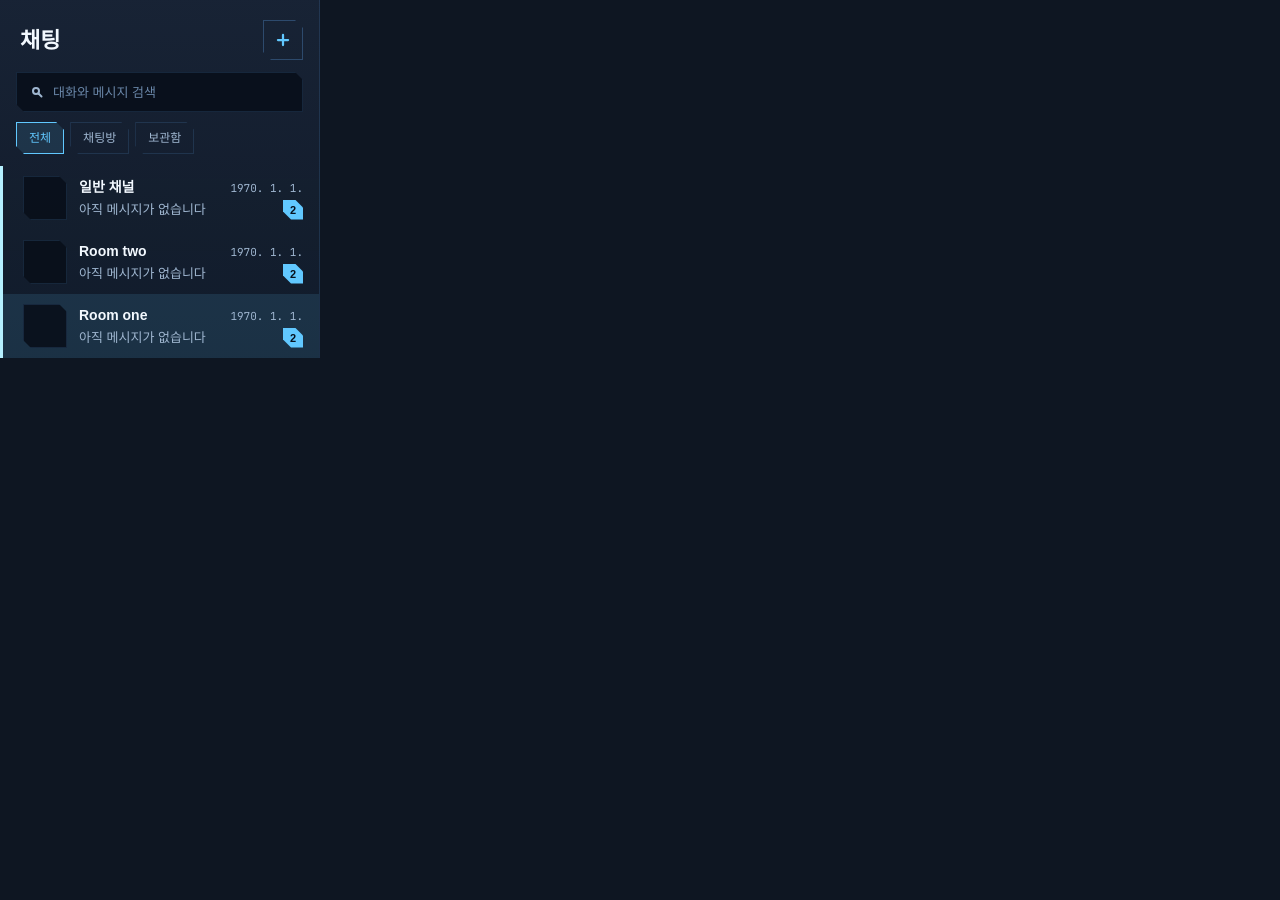
ChatListColumn context menu › deletes the general channel after its confirm and clears it when it was open (spec 2026-10-08 F1)
Right-click the button with test id "chat-list-row" that starts with "일반 채널": point(45, 198) [0, 166, 319, 230]
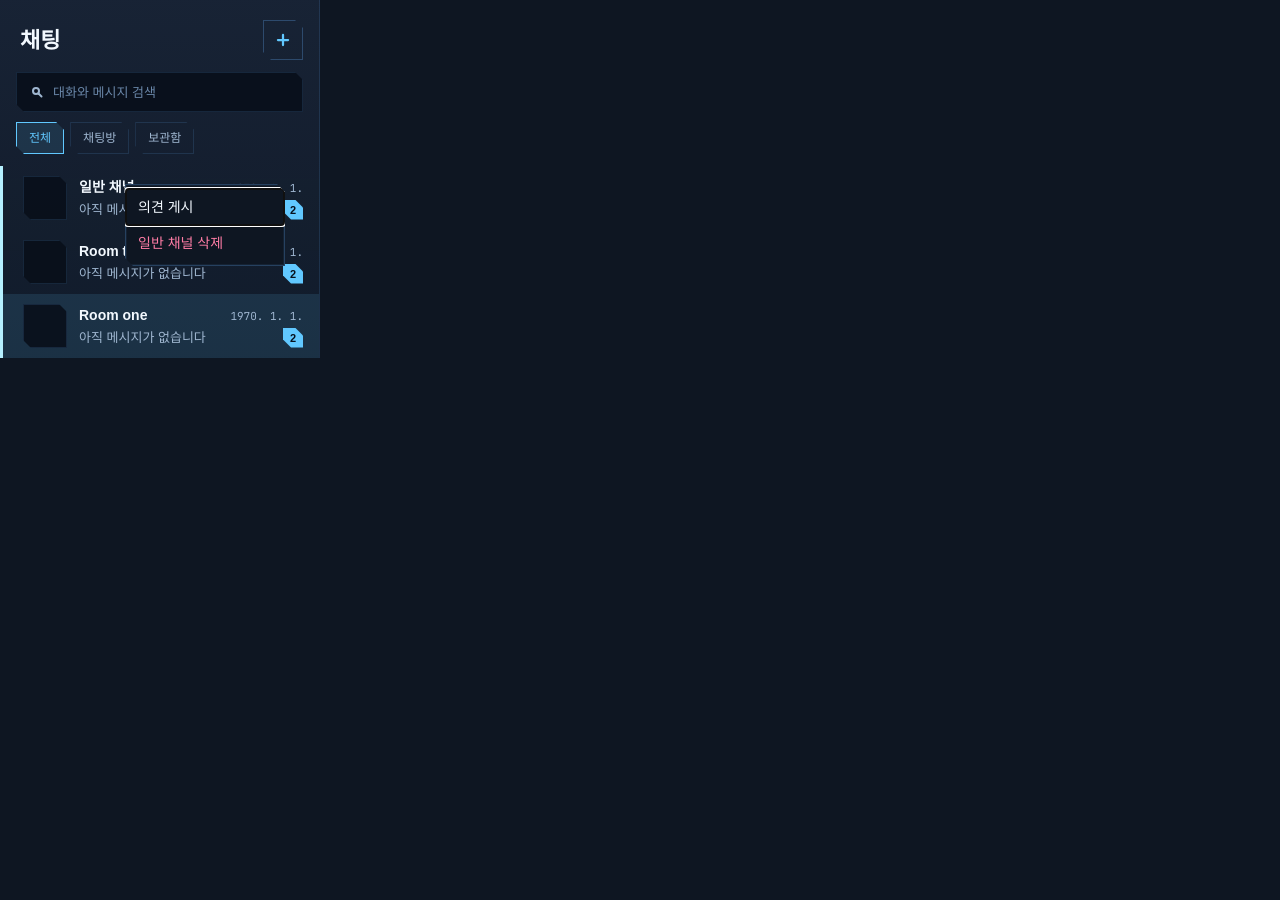
Click the menu item with test id "chat-delete-general": point(205, 243) [126, 225, 284, 261]
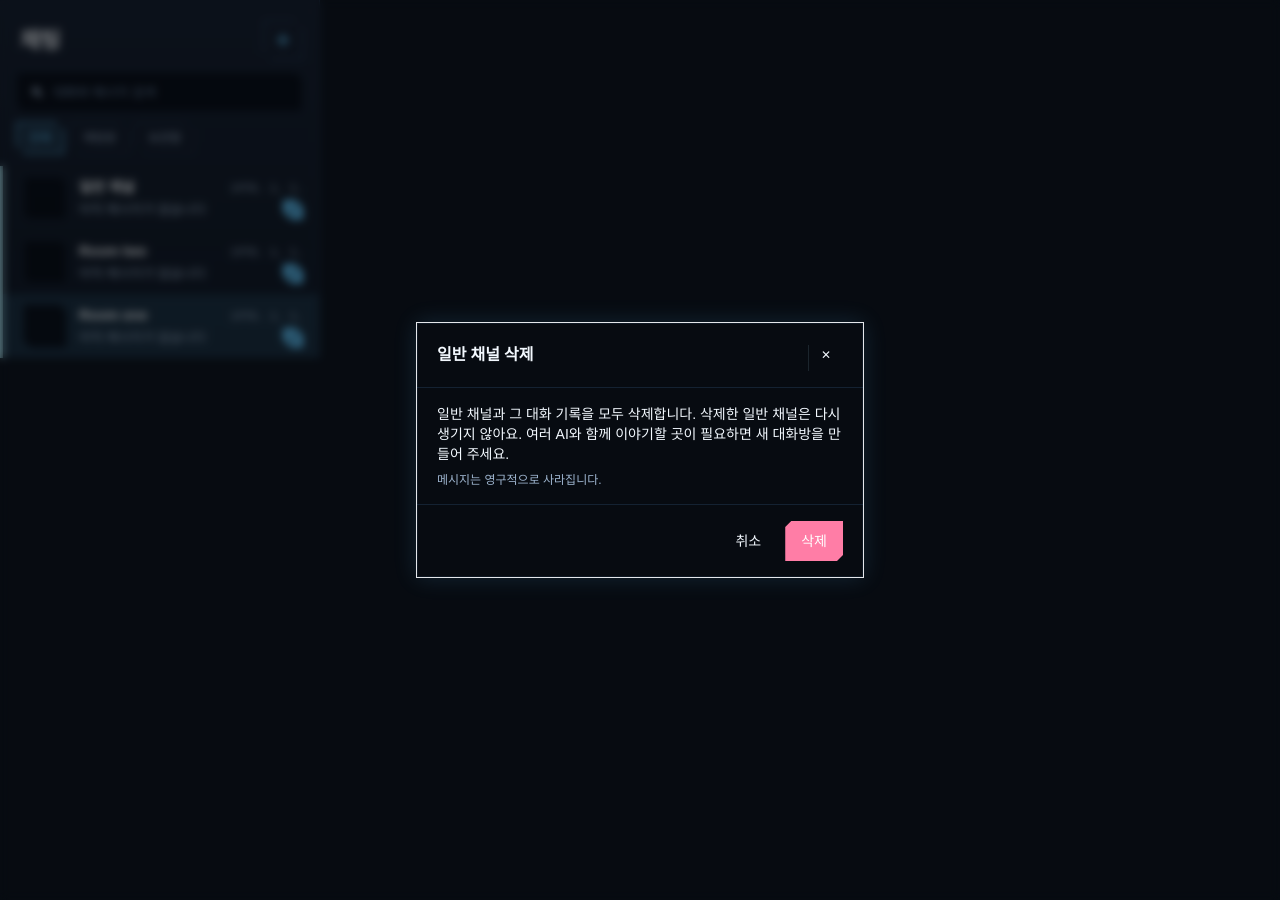
Click the button with test id "channel-delete-submit": point(814, 541) [785, 521, 843, 561]
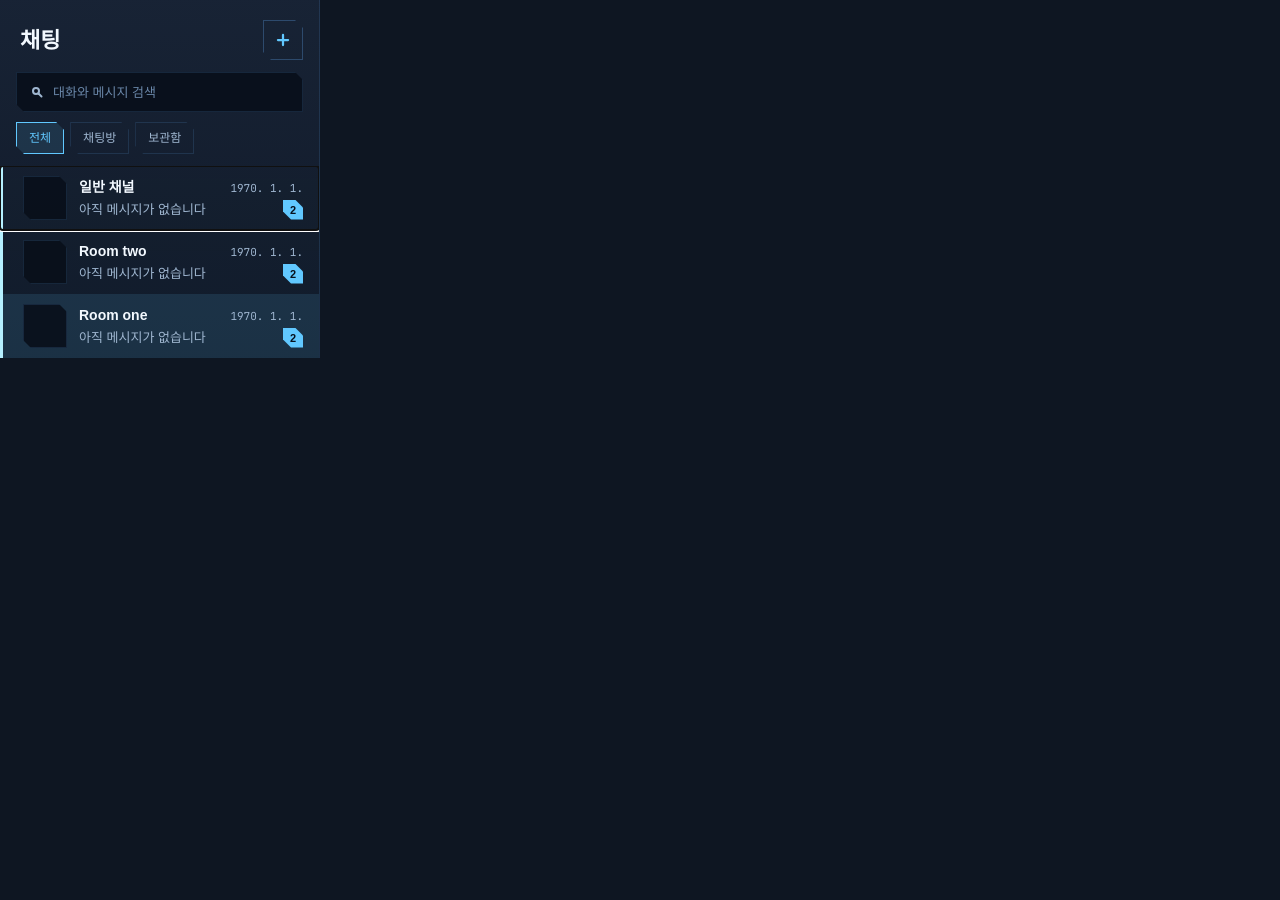
Expected: the dialog with test id "channel-delete-confirm" is gone
